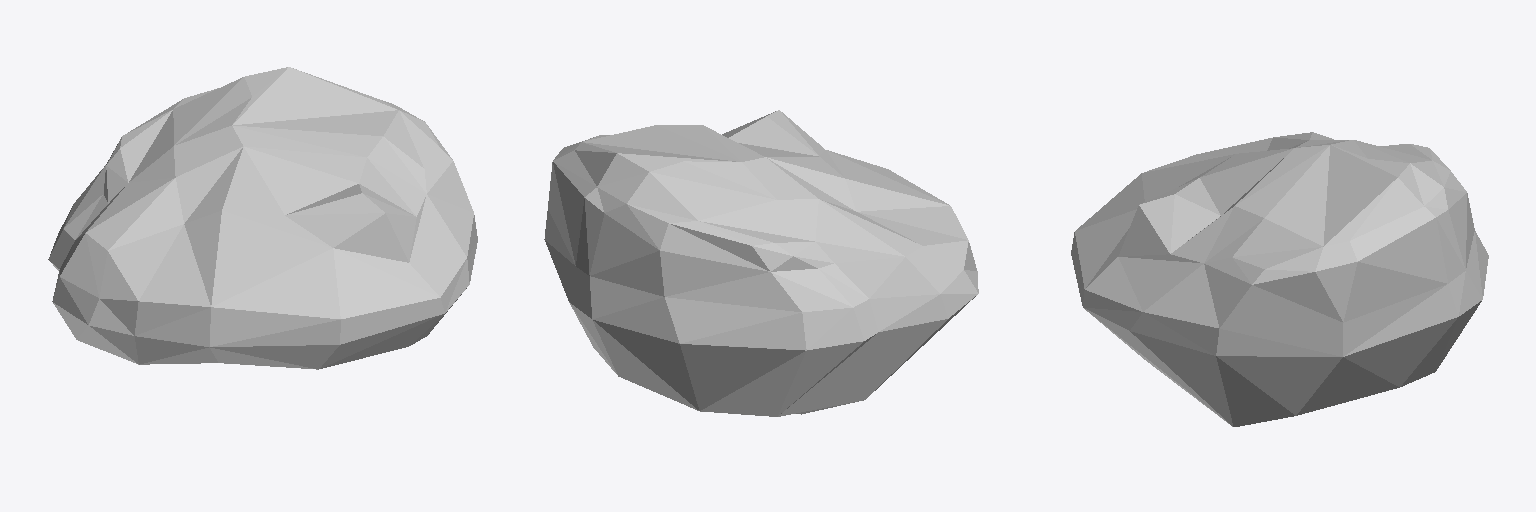
The model's file is sholazar_rocke.obj.
3 views of the same model, side by side, from view 1: azimuth 30°, elevation 25°; view 2: azimuth 150°, elevation 25°; view 3: azimuth 270°, elevation 25° (orthographic).
Parts seen in each view (by area): view 1: sholazar_rocke; view 2: sholazar_rocke; view 3: sholazar_rocke.
Boxes of the visible parts, <box> form: sholazar_rocke: <box>48,67,477,369</box>; sholazar_rocke: <box>544,110,978,416</box>; sholazar_rocke: <box>1071,132,1488,426</box>.
Bounding box in the file's own units: 6.73 × 4.14 × 6.34.